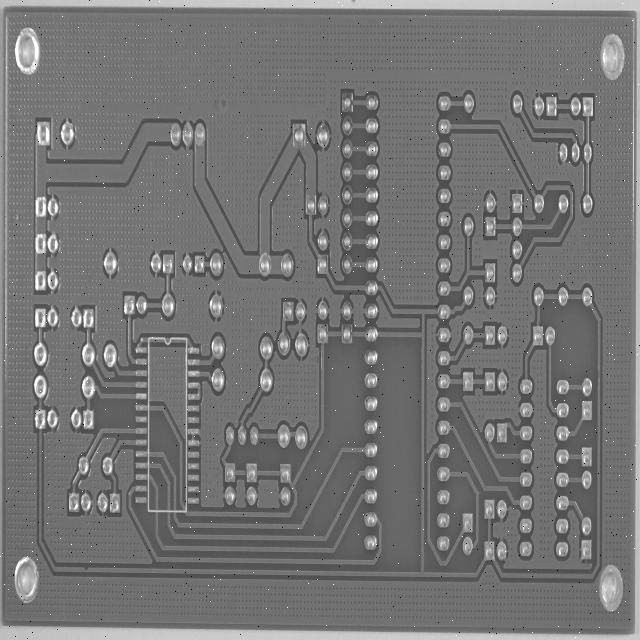mouse_bite: (82, 562, 90, 576)
